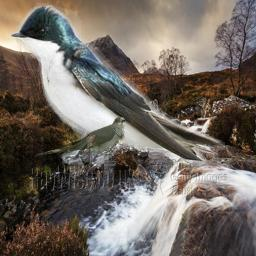Cuckoo: (35, 116, 125, 157)
Swallow: (8, 2, 225, 169)
